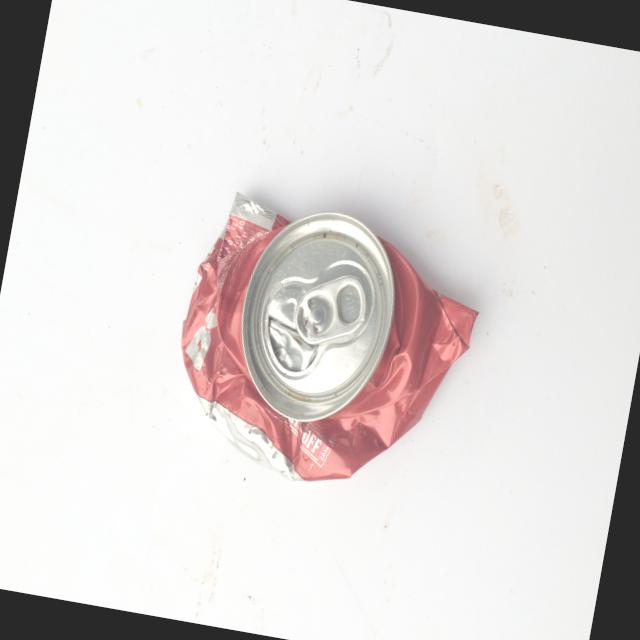Metal: (155, 177, 500, 512)
